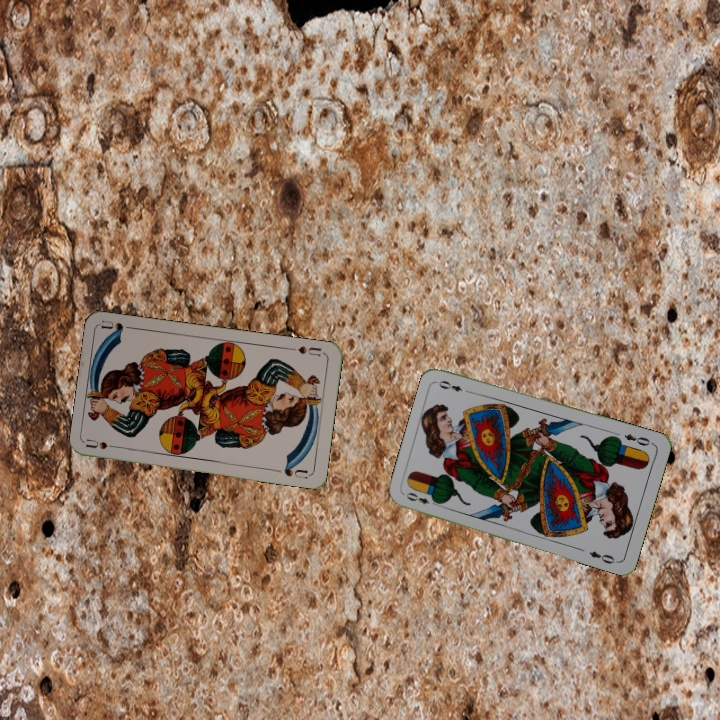EO: (402, 488, 441, 509), (620, 430, 653, 449)
SU: (286, 342, 327, 359), (83, 435, 124, 452)
